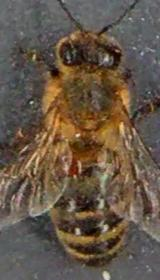varroa_mite: (61, 152, 84, 182)
